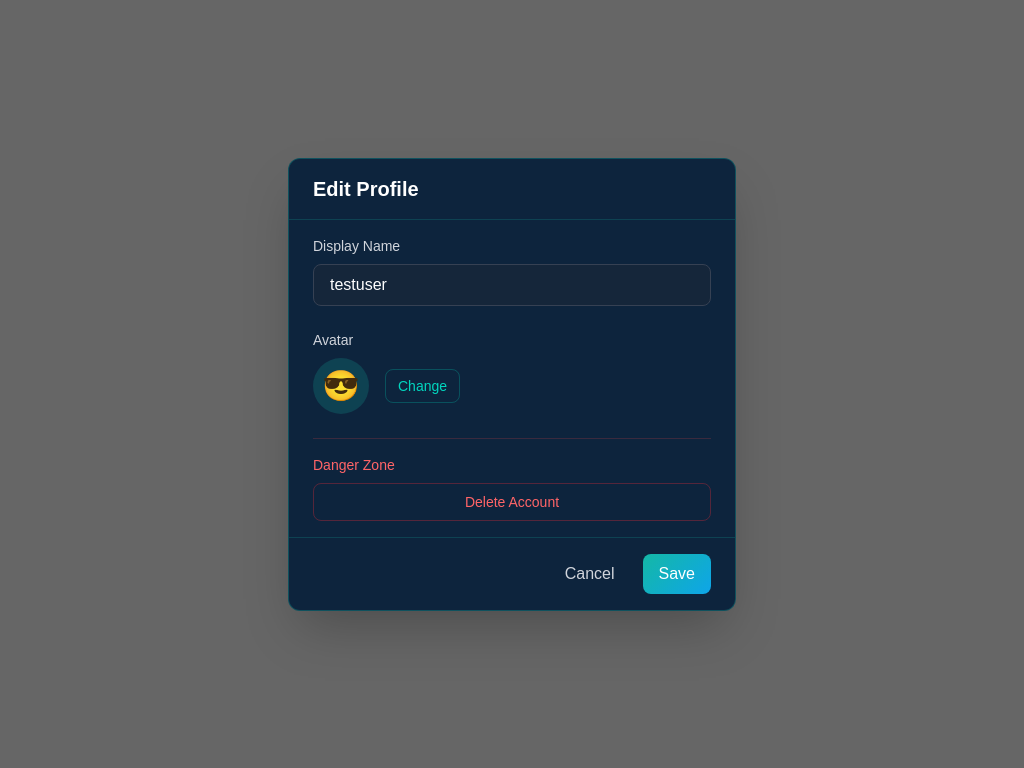
Scenario: ProfileSettings › shows suggested display name when API suggests one › should allow clicking suggested display name to use it
Change display name to trigger API call
Replace the text in the field labelled "Display Name" with "newdisplayname" at point(512, 284), box [313, 264, 711, 306]
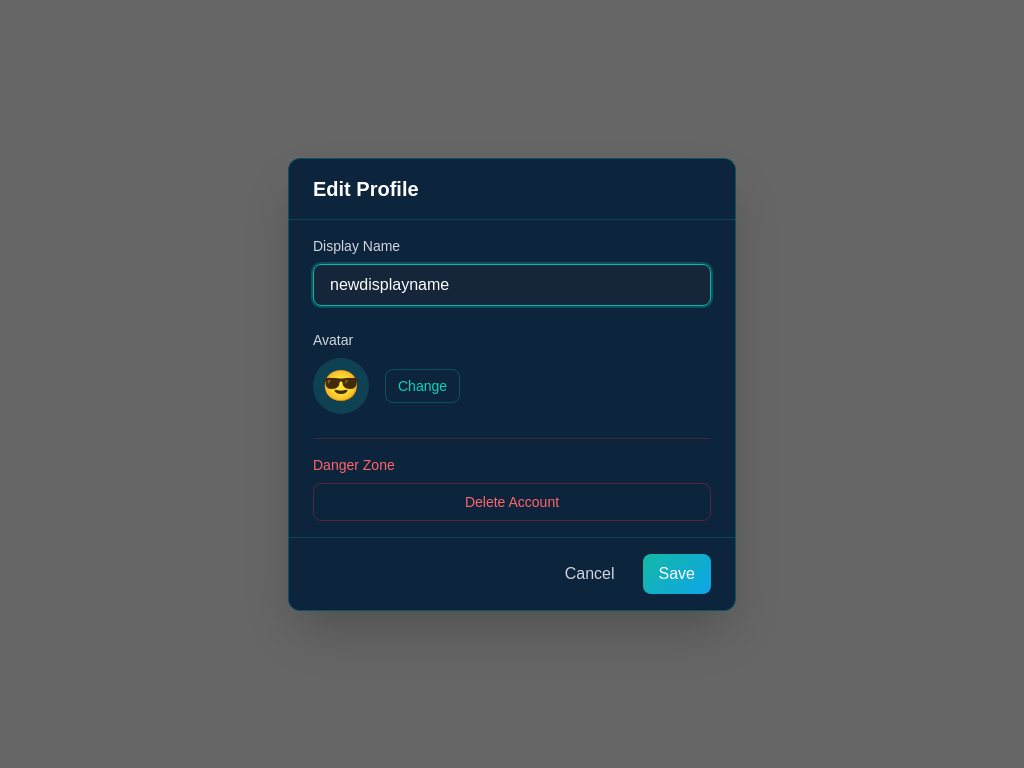
Click the button "Save" at point(677, 574), box [642, 554, 711, 594]
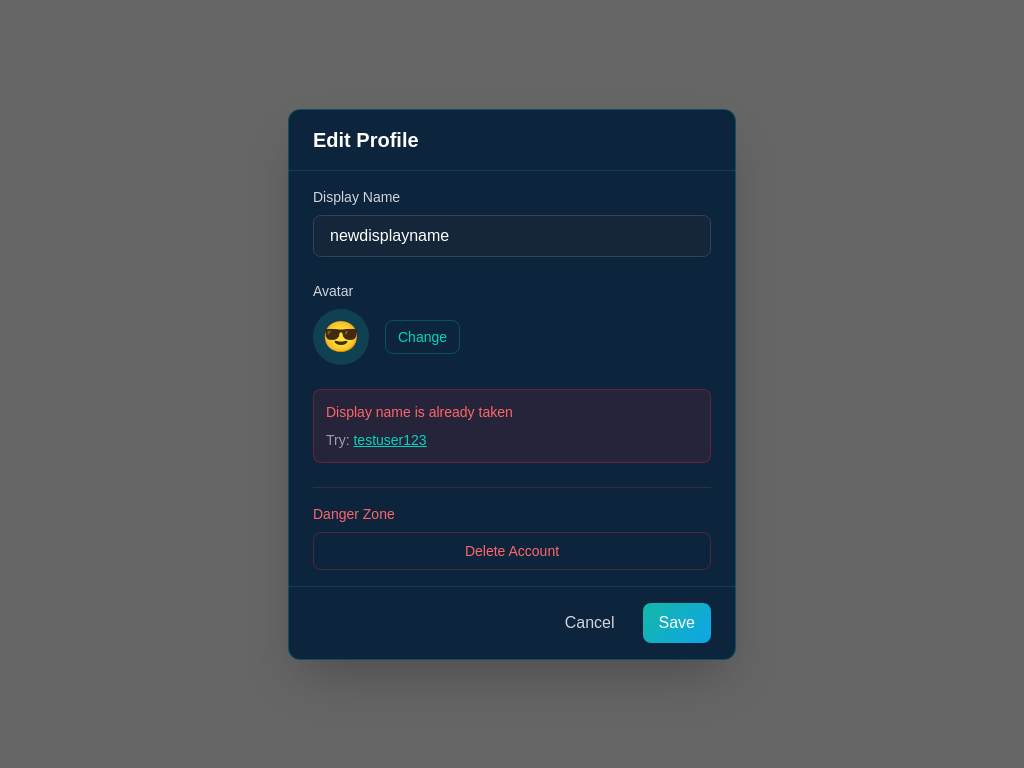
Click the button with aria-label "use testuser123" at point(390, 440), box [354, 430, 427, 450]
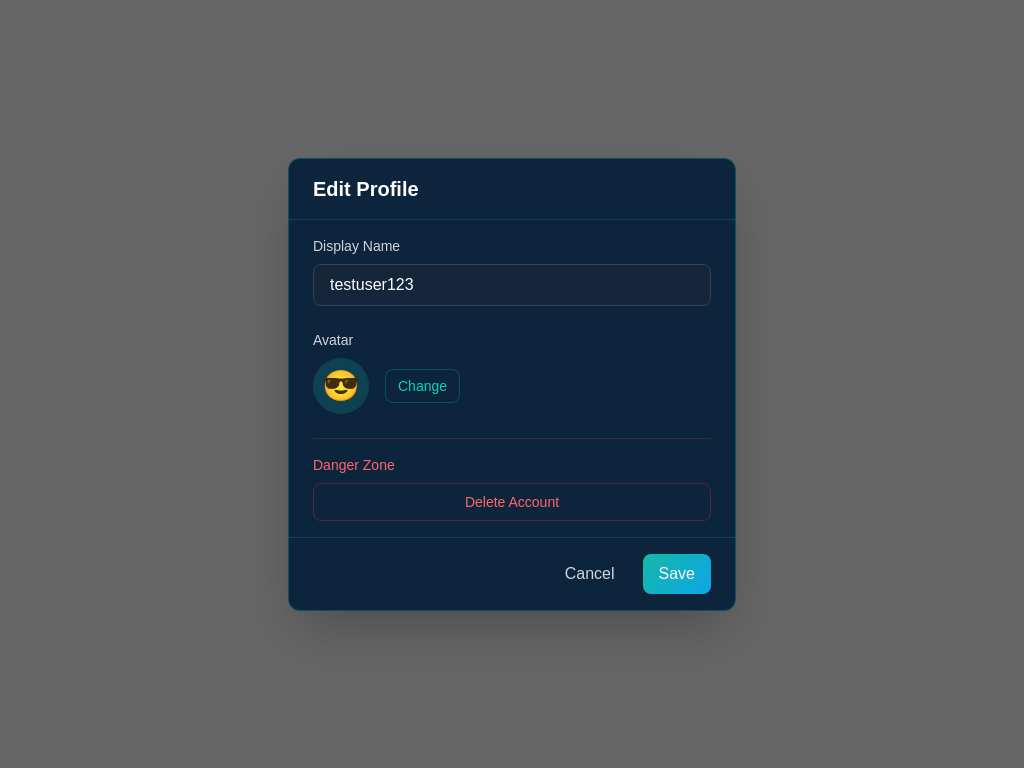
Check: the field labelled "Display Name" holds "testuser123", box [313, 264, 711, 306]
